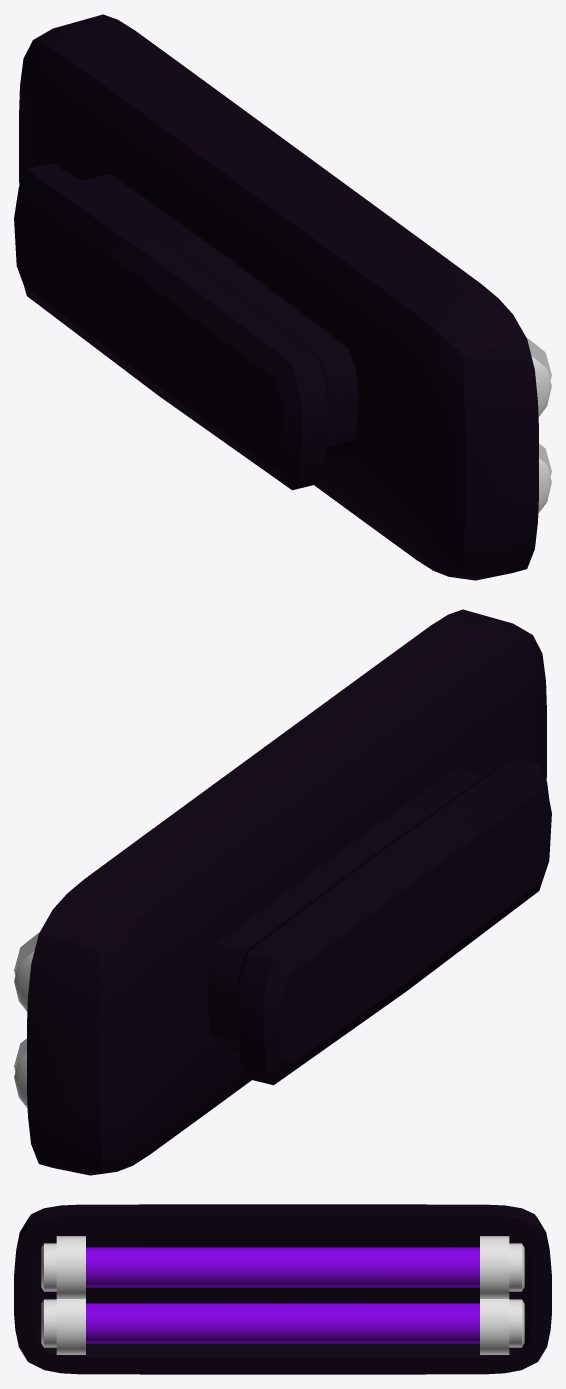
The model's file is UVlight.fbx.
3 views of the same model, one above another, from view 1: azimuth 30°, elevation 25°; view 2: azimuth 150°, elevation 25°; view 3: azimuth 270°, elevation 25° (orthographic). The views are drawn at different scales.
Visible parts, largest first — view 1: UVLamp2; view 2: UVLamp2; view 3: UVLamp2.
Boxes of the visible parts, <box> form: UVLamp2: <box>14,14,551,580</box>; UVLamp2: <box>14,609,551,1175</box>; UVLamp2: <box>14,1204,551,1374</box>.
Bounding box in the file's own units: 179 × 224 × 687.
